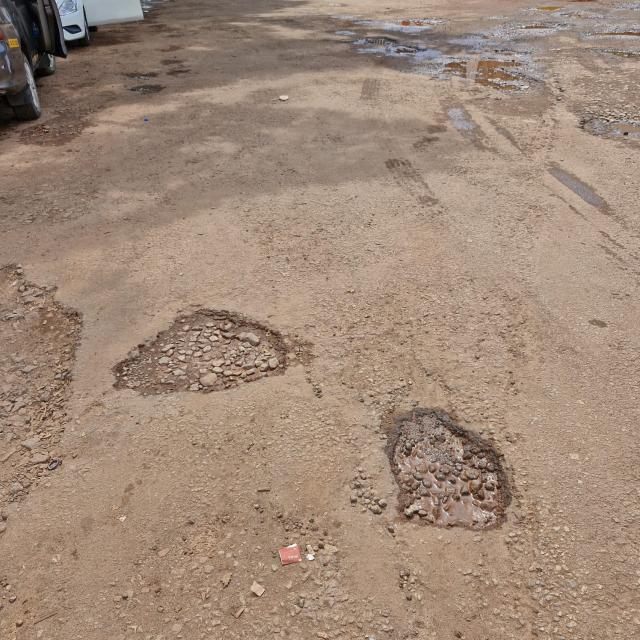pothole: (104, 298, 299, 400), (384, 407, 513, 535)
